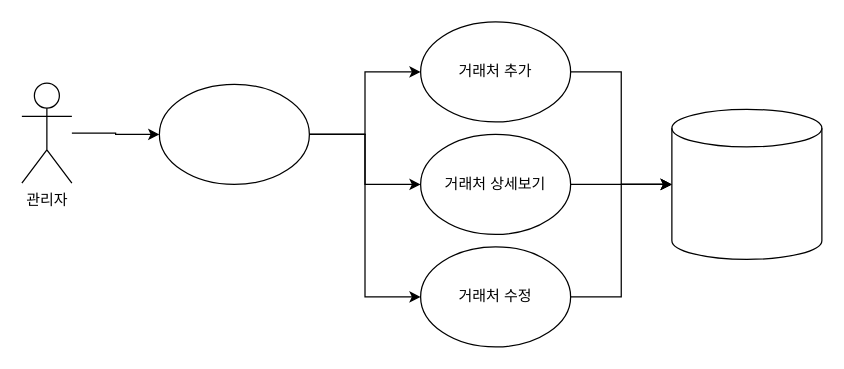
The diagram is 844 pixels wide and 369 high, and some of its shapes have lost their labels. Each missing label, with the centre of its shape:
"거래처 리스트 보기" belongs at (233,133).
"거래처 정보 테이블" belongs at (746,183).
